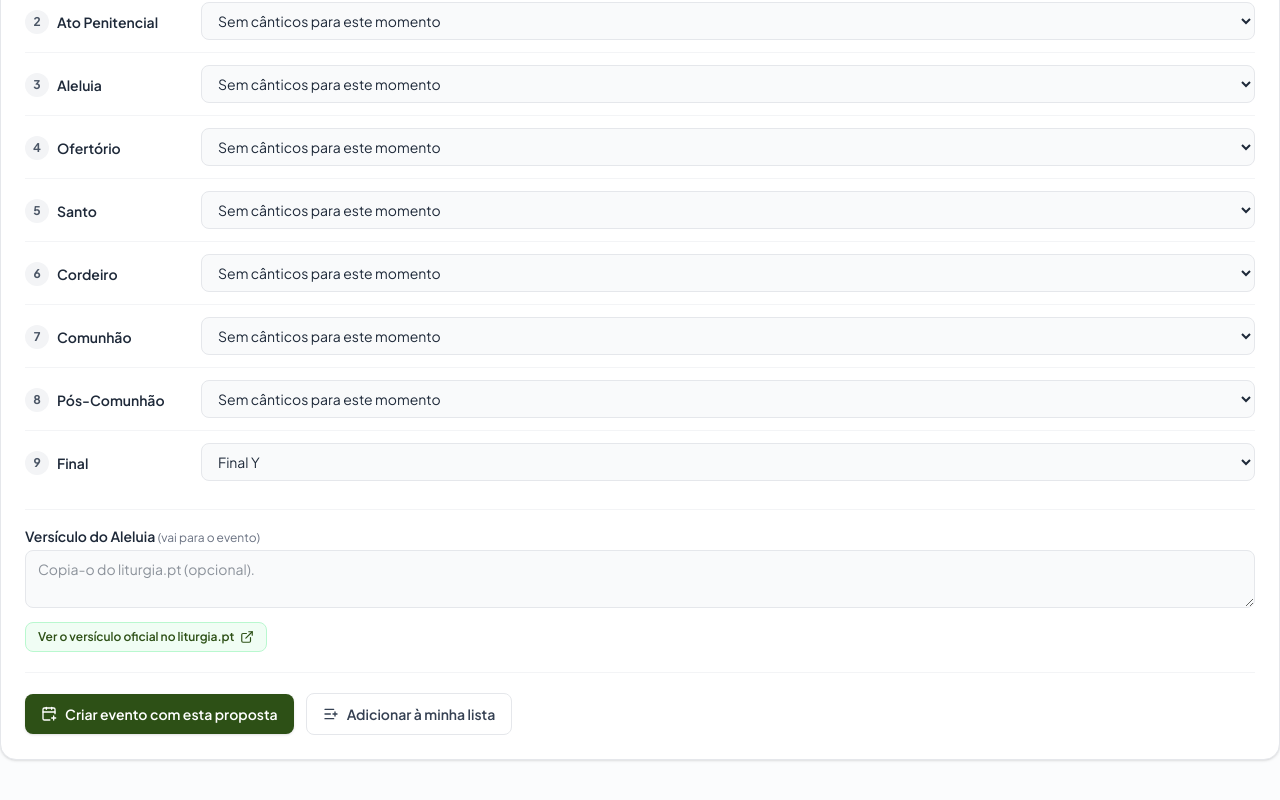
Test: MassPlanner › adiciona os cânticos escolhidos à lista pessoal
(page scrolled)
Click the button "Adicionar à minha lista".
click(409, 714)  # box x1=306 y1=693 x2=512 y2=735
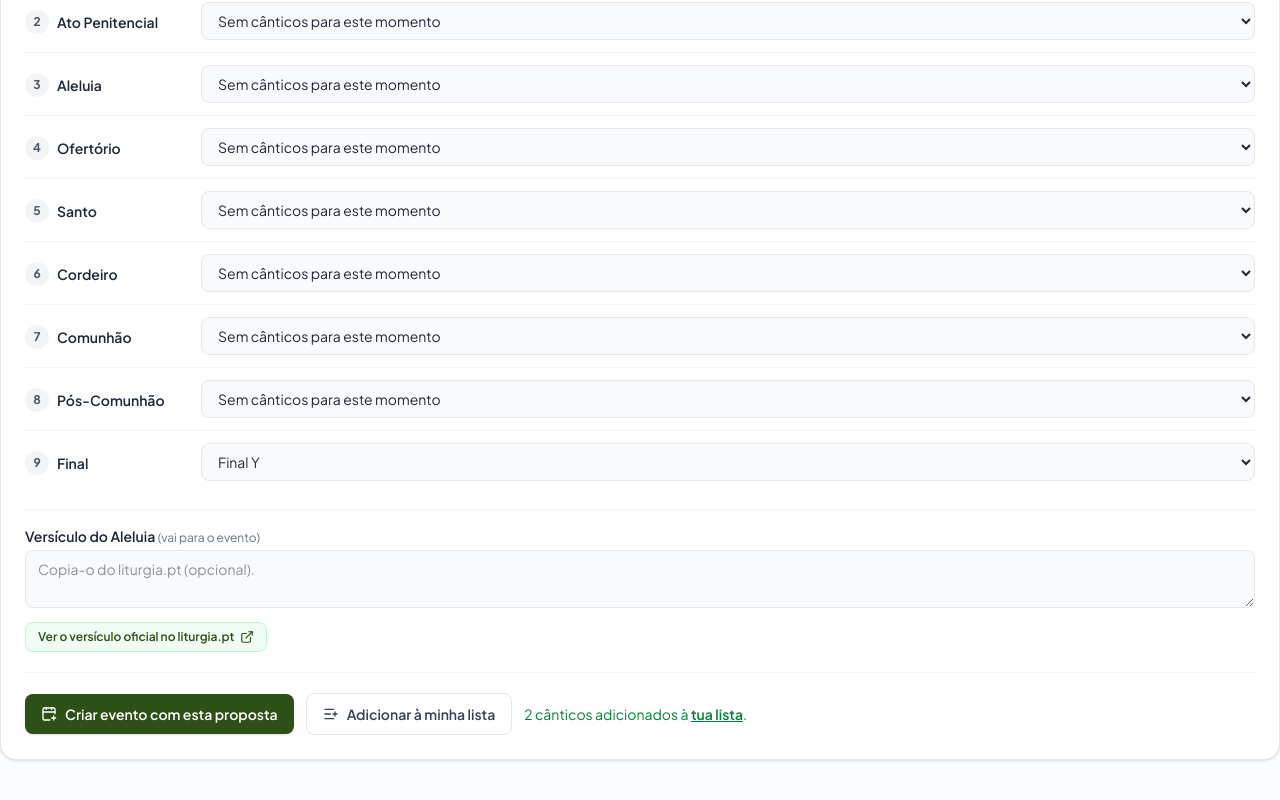
Expected: the message shows "2 cânticos adicionados", x1=524 y1=705 x2=678 y2=723
